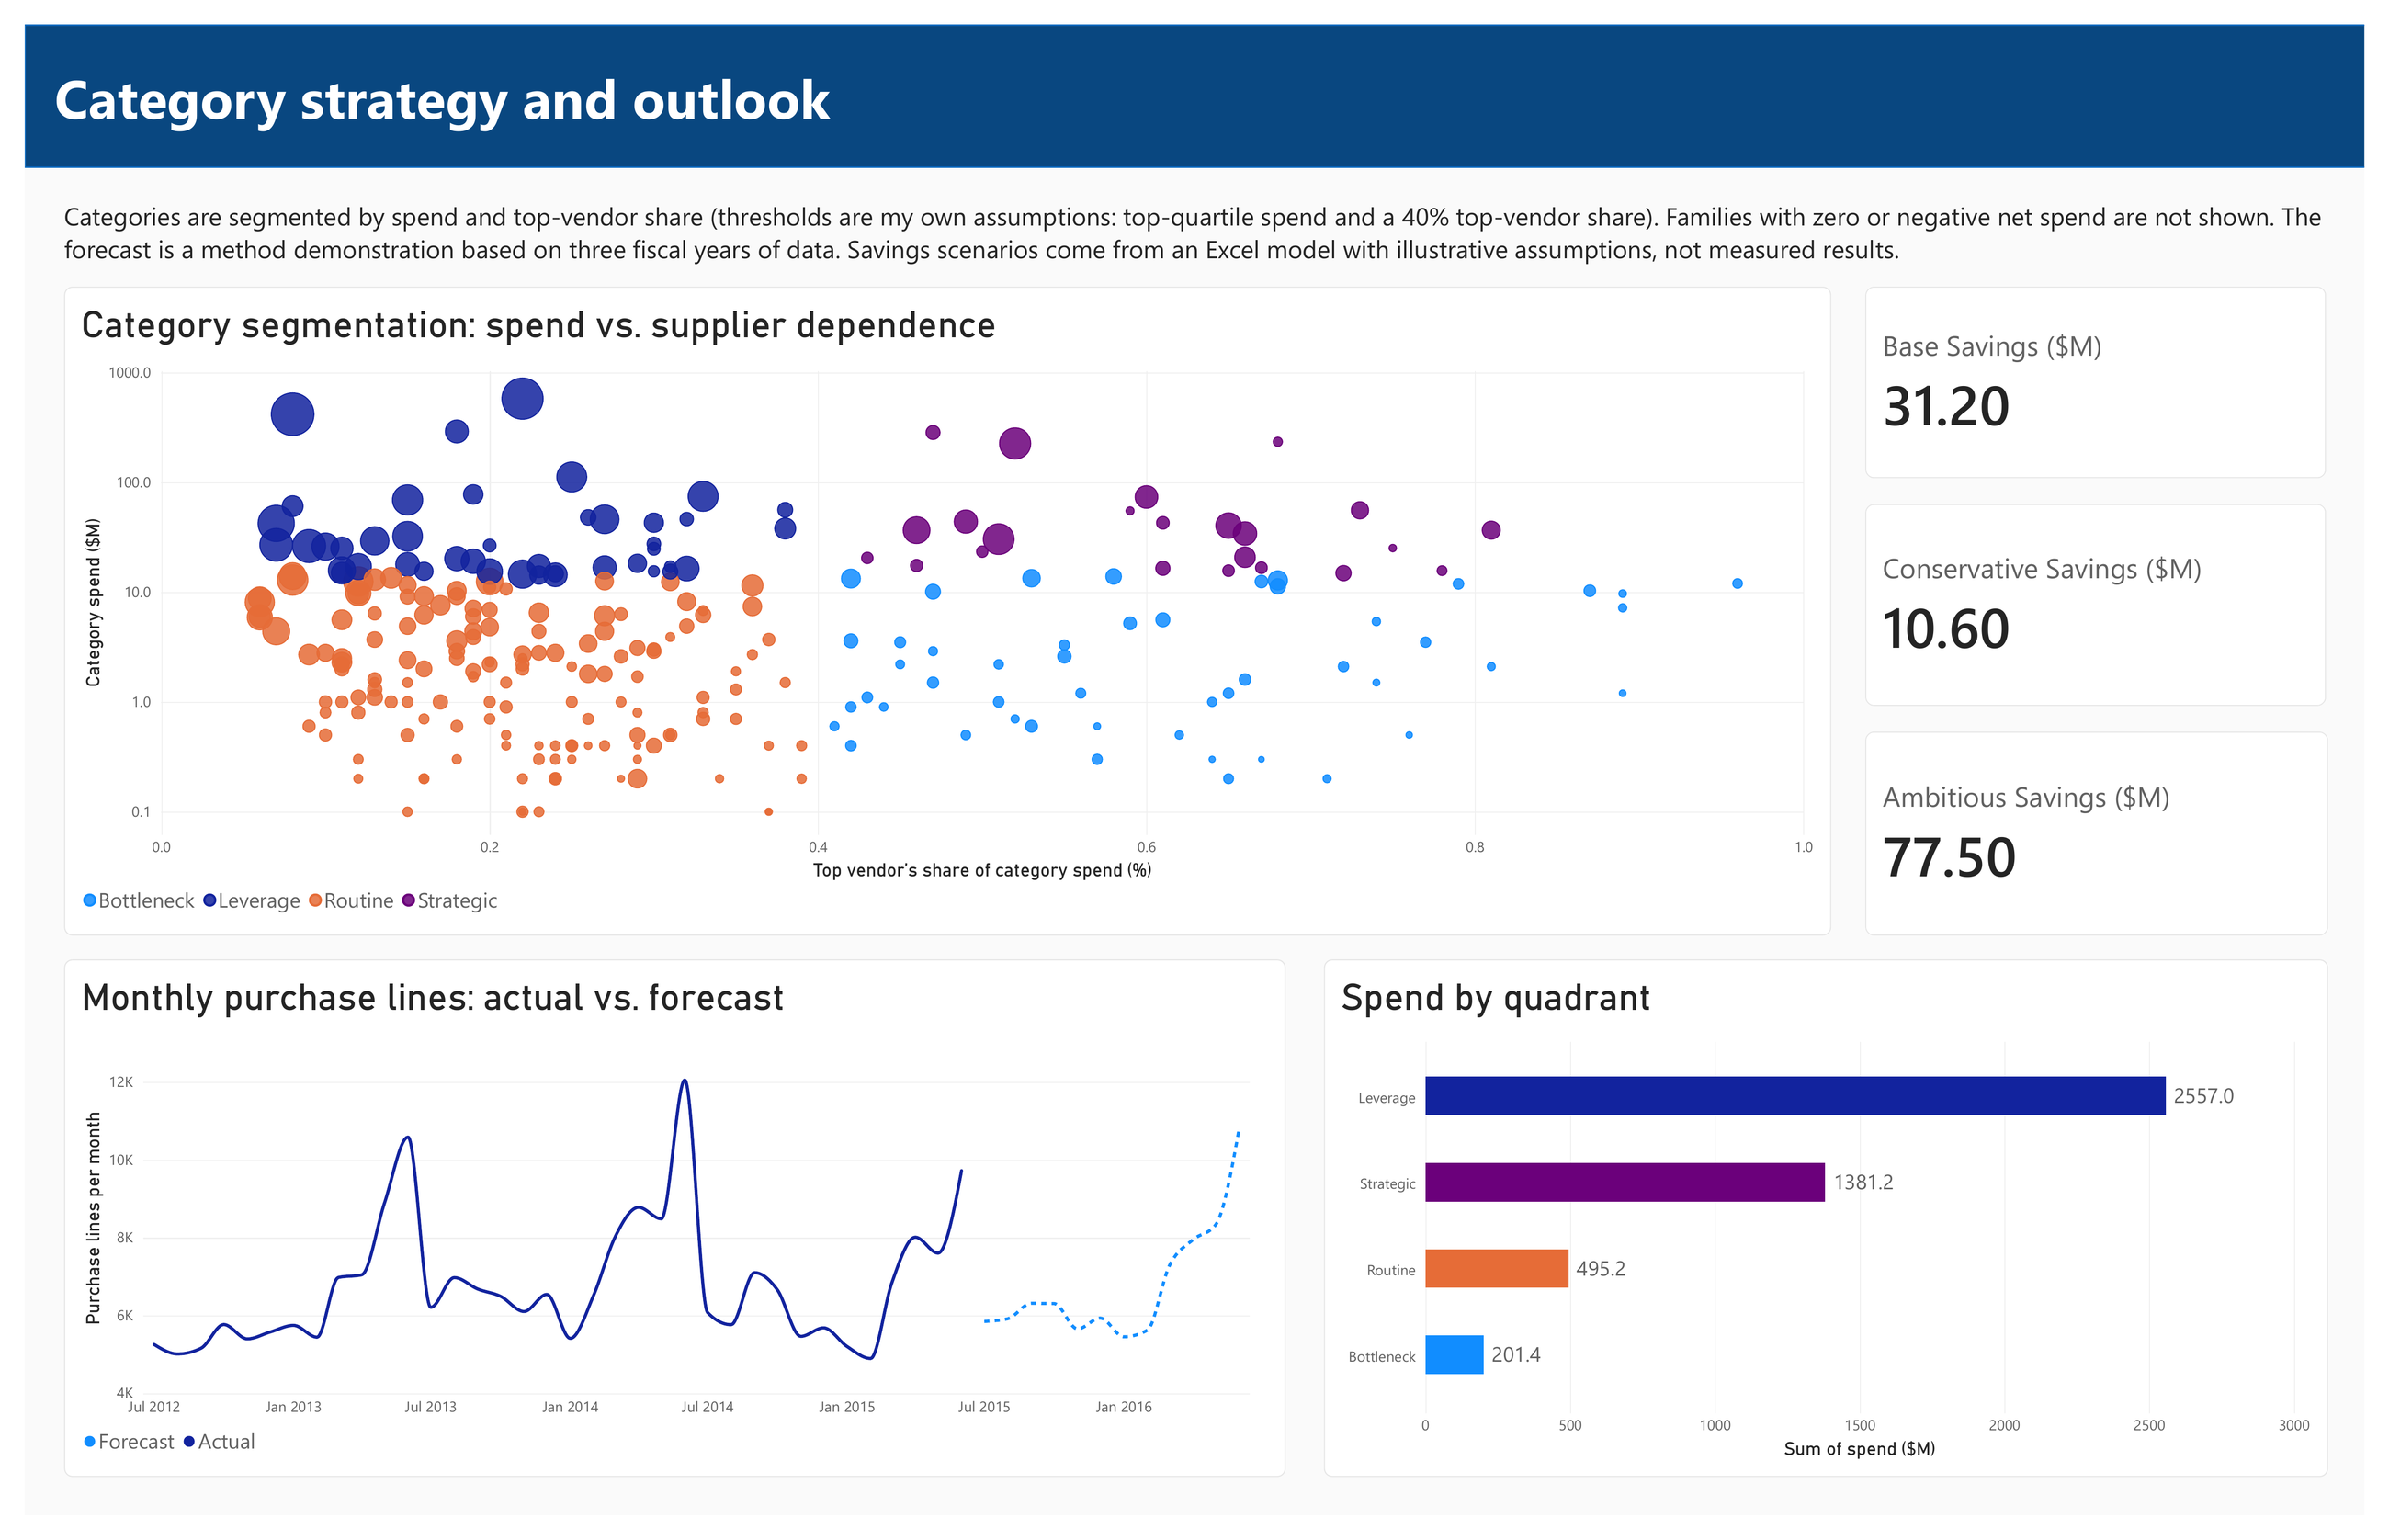

The page's visual inventory and layout, read from the dashboard file:
{"tool":"powerbi","page":{"name":"Categories and outlook","canvas":[2260,1440],"ordinal":1},"visuals":[{"type":"shape","box":[0,0,2560,137.5],"z":0},{"type":"scatterChart","title":"Category segmentation: spend vs. supplier dependence","fields":{"Category":["kraljic.family"],"Series":["kraljic.quadrant"],"Size":["Sum(kraljic.suppliers)"],"X":["Avg(kraljic.top_supplier_share)"],"Y":["Sum(kraljic.spend_m)"]},"box":[37.5,252.5,1707.5,627.5],"z":1000},{"type":"clusteredBarChart","title":"Spend by quadrant","fields":{"Category":["kraljic.quadrant"],"Y":["Sum(kraljic.spend_m)"]},"box":[1255,902.5,970,500],"z":2000},{"type":"lineChart","title":"Monthly purchase lines: actual vs. forecast","fields":{"Category":["forecast_goods.month.Variation.Date Hierarchy.Year","forecast_goods.month.Variation.Date Hierarchy.Quarter","forecast_goods.month.Variation.Date Hierarchy.Month","forecast_goods.month.Variation.Date Hierarchy.Day"],"Y":["Sum(forecast_goods.lines_forecast)","Sum(forecast_goods.lines)"]},"box":[37.5,902.5,1180,500],"z":3000},{"type":"cardVisual","fields":{"Data":["kraljic.Ambitious Savings ($M)"]},"box":[1777.5,682.5,447.5,197.5],"z":4000},{"type":"cardVisual","fields":{"Data":["kraljic.Base Savings ($M)"]},"box":[1777.5,252.5,445,185],"z":5000},{"type":"cardVisual","fields":{"Data":["kraljic.Conservative Savings ($M)"]},"box":[1777.5,462.5,445,195],"z":6000},{"type":"textbox","box":[1255,1417.5,242.5,22.5],"z":7000},{"type":"textbox","box":[37.5,167.5,2187.5,85],"z":8000}]}

Visuals, with their boxes in screenshot pixels (x1, y1, x2, y2), scaled from the page's 2260x1440 canvas onto the 2389x1540 screenshot:
shape: [0,0,2388,147]
"Category segmentation: spend vs. supplier dependence" scatterChart: [40,270,1845,941]
"Spend by quadrant" clusteredBarChart: [1327,965,2352,1500]
"Monthly purchase lines: actual vs. forecast" lineChart: [40,965,1287,1500]
cardVisual - kraljic.Ambitious Savings ($M): [1879,730,2352,941]
cardVisual - kraljic.Base Savings ($M): [1879,270,2349,468]
cardVisual - kraljic.Conservative Savings ($M): [1879,494,2349,703]
textbox: [1327,1516,1583,1539]
textbox: [40,179,2352,270]
